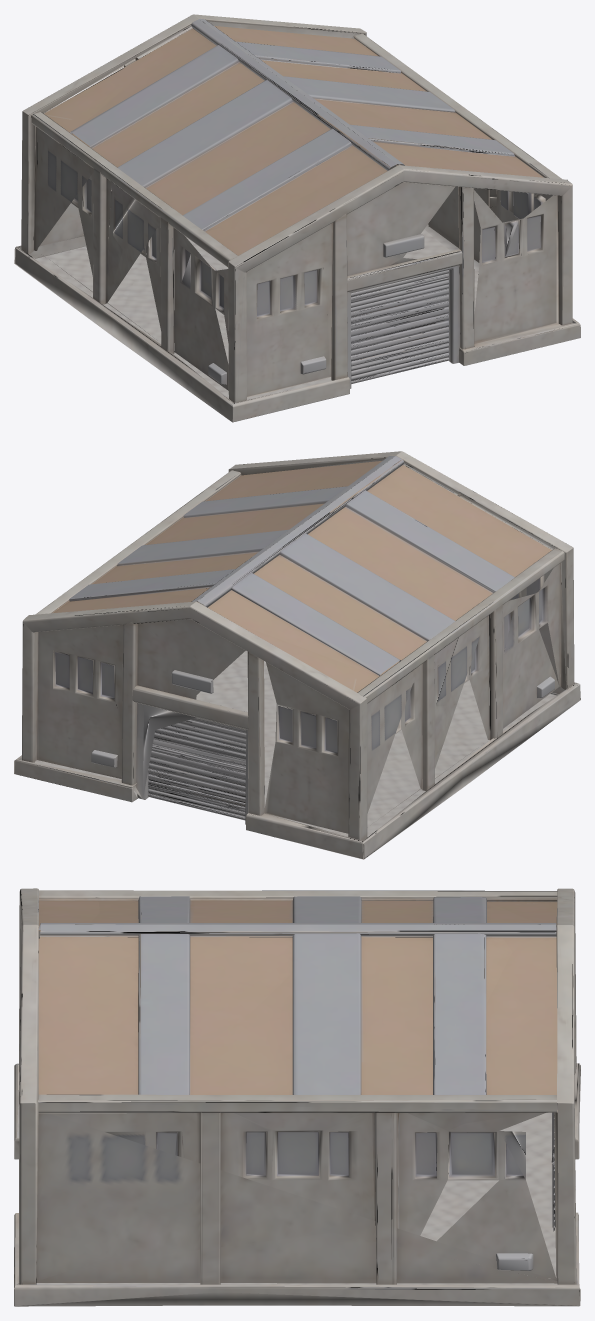
Rendered from 20-warehouse.glb.
3 renders of one model, top to bottom at view 1: azimuth 30°, elevation 25°; view 2: azimuth 150°, elevation 25°; view 3: azimuth 270°, elevation 25°, orthographic. The views are drawn at different scales.
Parts seen in each view (by area): view 1: geometry_0; view 2: geometry_0; view 3: geometry_0.
Boxes of the visible parts, x1,y1,x2,y2 form: geometry_0: (14, 14, 580, 422); geometry_0: (14, 451, 580, 859); geometry_0: (14, 888, 580, 1306).
Size of the model in its own units: 0.8799 by 0.5029 by 0.9487.
Materials: 1 (1 with a texture image).
